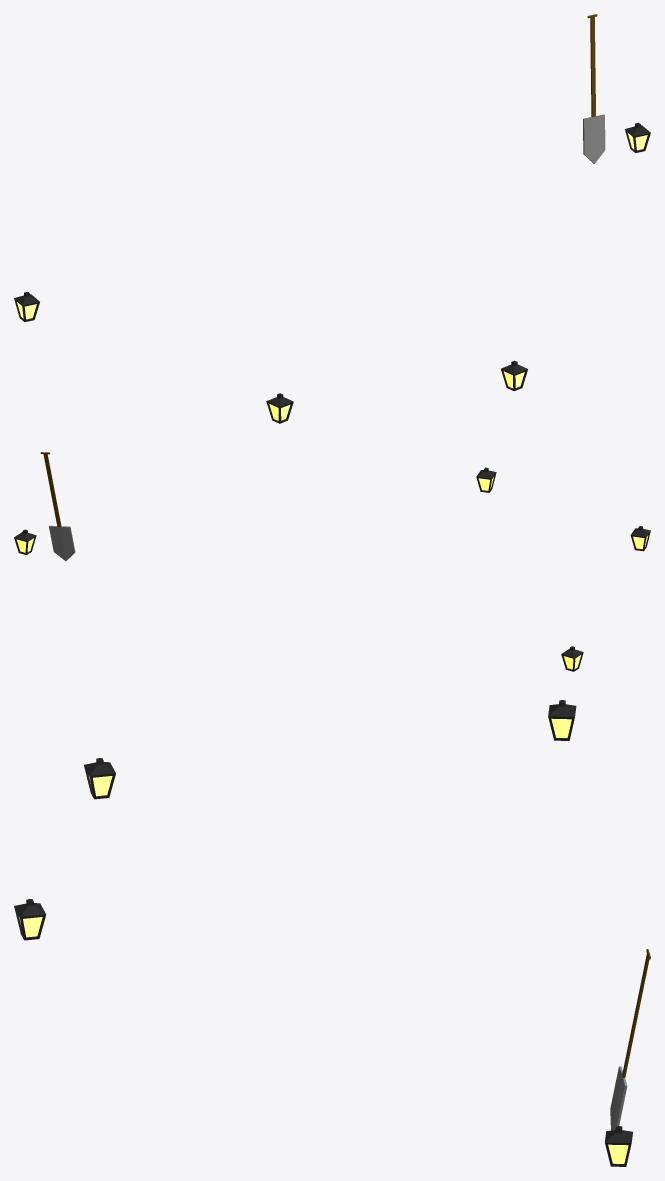
The model's file is lamps.ff9d796f.glb.
The picture shows the model from 3 angles, top to bottom: view 1: azimuth 30°, elevation 25°; view 2: azimuth 150°, elevation 25°; view 3: azimuth 270°, elevation 25°; orthographic projection. The views are drawn at different scales.
Visible parts, largest first — view 1: shovel; view 2: shovel, lamp 2, lamp 3, lamp 1, lamp 1.001; view 3: shovel, lamp 1.001, lamp 1, lamp 3, lamp 2.
Part boxes in pixels (x1,y1,x2,y2): shovel: [583, 14, 605, 163]; shovel: [40, 452, 75, 560]; lamp 2: [561, 646, 583, 671]; lamp 3: [14, 529, 36, 554]; lamp 1: [630, 526, 650, 551]; lamp 1.001: [476, 467, 496, 492]; shovel: [610, 949, 650, 1130]; lamp 1.001: [14, 899, 46, 940]; lamp 1: [84, 758, 115, 799]; lamp 3: [605, 1126, 632, 1166]; lamp 2: [548, 700, 576, 740].
Bounding box in the file's own units: 10.6 × 2.14 × 6.52.
